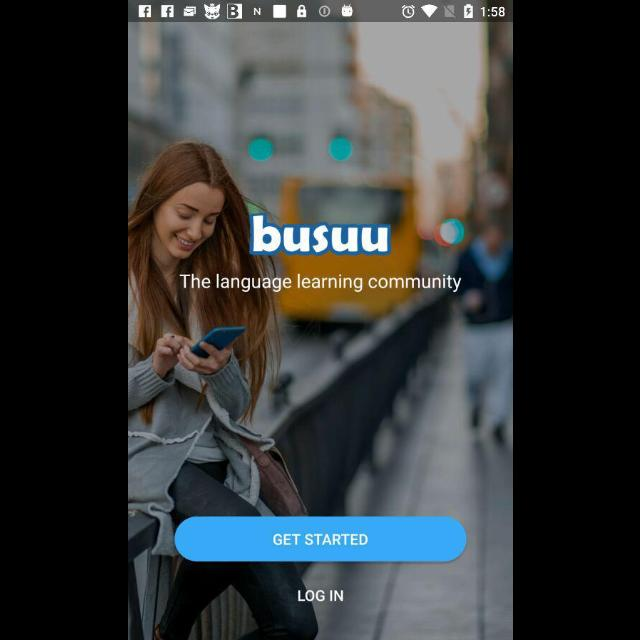backgroundimage: (128, 22, 512, 640)
image: (248, 212, 390, 256)
text: (179, 273, 461, 293), (298, 590, 344, 602)
textbutton: (174, 516, 466, 562)
uppertaskbar: (128, 1, 512, 23)
